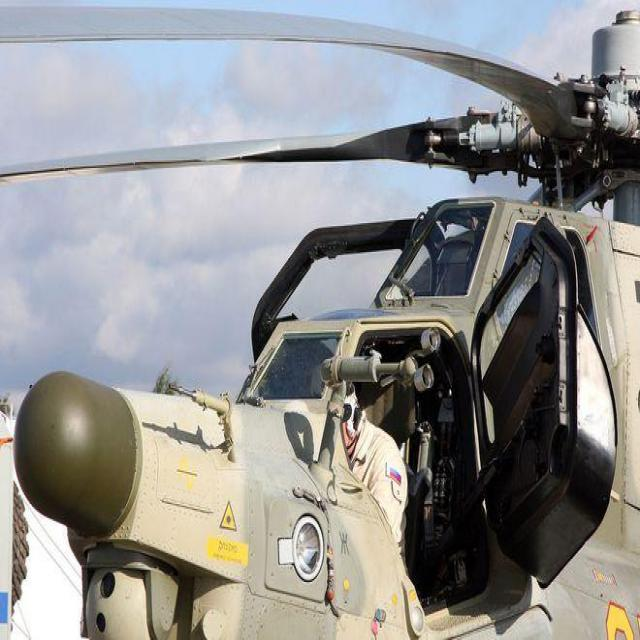MIL_HELO: (7, 26, 640, 635)
